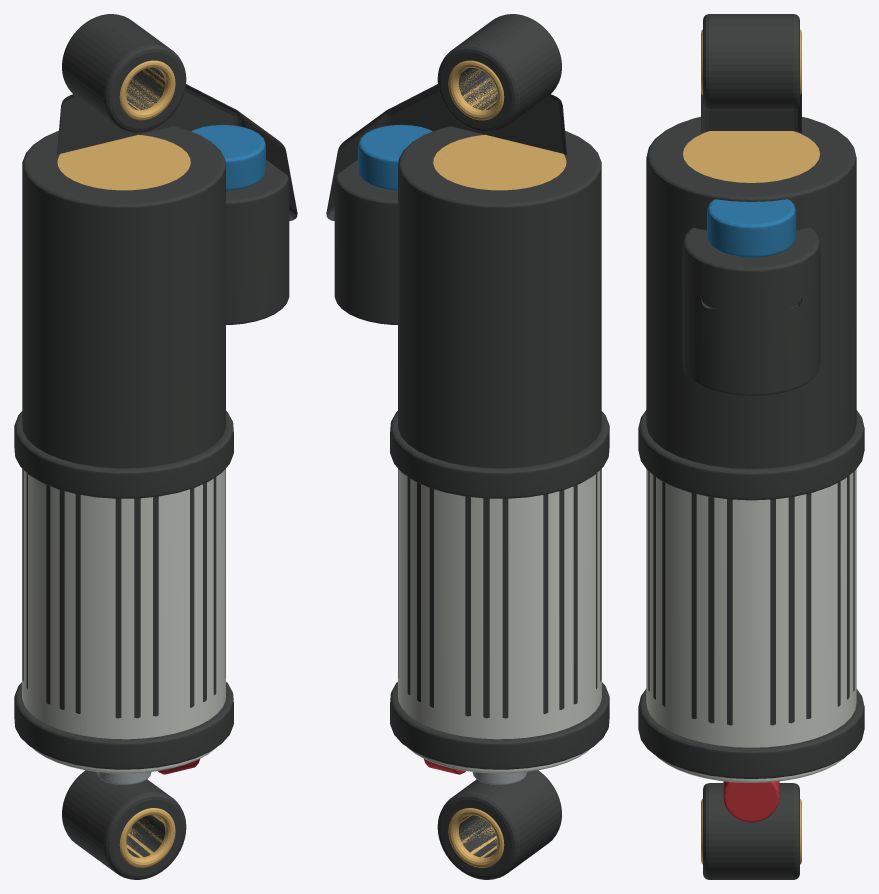
File: fox-float-x2-factory-my26--3b061d37.glb
3 views of the same model, side by side, from view 1: azimuth 30°, elevation 25°; view 2: azimuth 150°, elevation 25°; view 3: azimuth 270°, elevation 25° (orthographic). The views are drawn at different scales.
Visible parts, largest first — view 1: fox-float-x2-factory-my26--3b061d37__link, fox-float-x2-factory-my26--3b061d37__frame, fox-float-x2-factory-my26--3b061d37__stanchions, fox-float-x2-factory-my26--3b061d37__adjuster; view 2: fox-float-x2-factory-my26--3b061d37__link, fox-float-x2-factory-my26--3b061d37__frame, fox-float-x2-factory-my26--3b061d37__stanchions, fox-float-x2-factory-my26--3b061d37__adjuster; view 3: fox-float-x2-factory-my26--3b061d37__link, fox-float-x2-factory-my26--3b061d37__frame, fox-float-x2-factory-my26--3b061d37__stanchions, fox-float-x2-factory-my26--3b061d37__adjuster, fox-float-x2-factory-my26--3b061d37__rebound.
Boxes of the visible parts, bbox=[...] form: fox-float-x2-factory-my26--3b061d37__link: bbox=[14, 14, 297, 879]; fox-float-x2-factory-my26--3b061d37__frame: bbox=[22, 468, 225, 773]; fox-float-x2-factory-my26--3b061d37__stanchions: bbox=[57, 60, 190, 867]; fox-float-x2-factory-my26--3b061d37__adjuster: bbox=[191, 124, 265, 190]; fox-float-x2-factory-my26--3b061d37__link: bbox=[326, 14, 609, 879]; fox-float-x2-factory-my26--3b061d37__frame: bbox=[398, 468, 601, 773]; fox-float-x2-factory-my26--3b061d37__stanchions: bbox=[433, 60, 566, 867]; fox-float-x2-factory-my26--3b061d37__adjuster: bbox=[358, 124, 432, 190]; fox-float-x2-factory-my26--3b061d37__link: bbox=[638, 14, 864, 879]; fox-float-x2-factory-my26--3b061d37__frame: bbox=[646, 469, 856, 782]; fox-float-x2-factory-my26--3b061d37__stanchions: bbox=[683, 29, 819, 864]; fox-float-x2-factory-my26--3b061d37__adjuster: bbox=[707, 199, 795, 257]; fox-float-x2-factory-my26--3b061d37__rebound: bbox=[723, 781, 779, 822].
Bounding box in the file's own units: 0.074 × 0.234 × 0.056.
